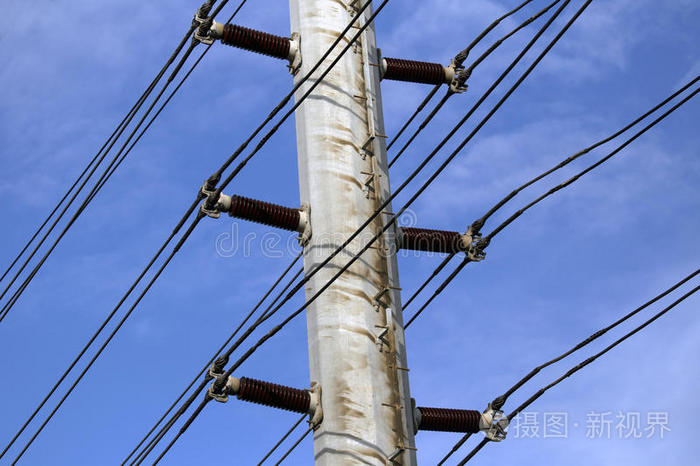insulator: (217, 19, 290, 60), (227, 194, 301, 232), (236, 375, 311, 412), (413, 405, 482, 435), (397, 225, 462, 255), (382, 56, 448, 85)
